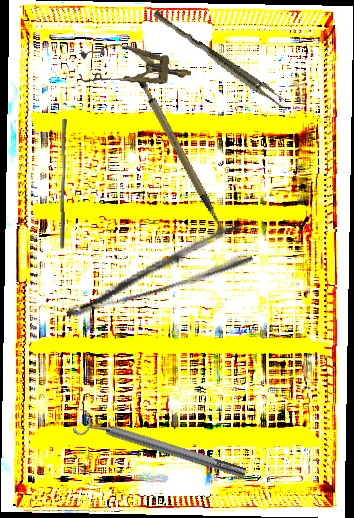Dressing Forceps: (55, 220, 255, 322)
Fixation Ring: (72, 406, 249, 488)
Pusher: (57, 117, 70, 250)
Scalpel Handle: (136, 71, 221, 236)
Speculum: (78, 40, 193, 95)
Tissue Forceps: (149, 9, 289, 109)
